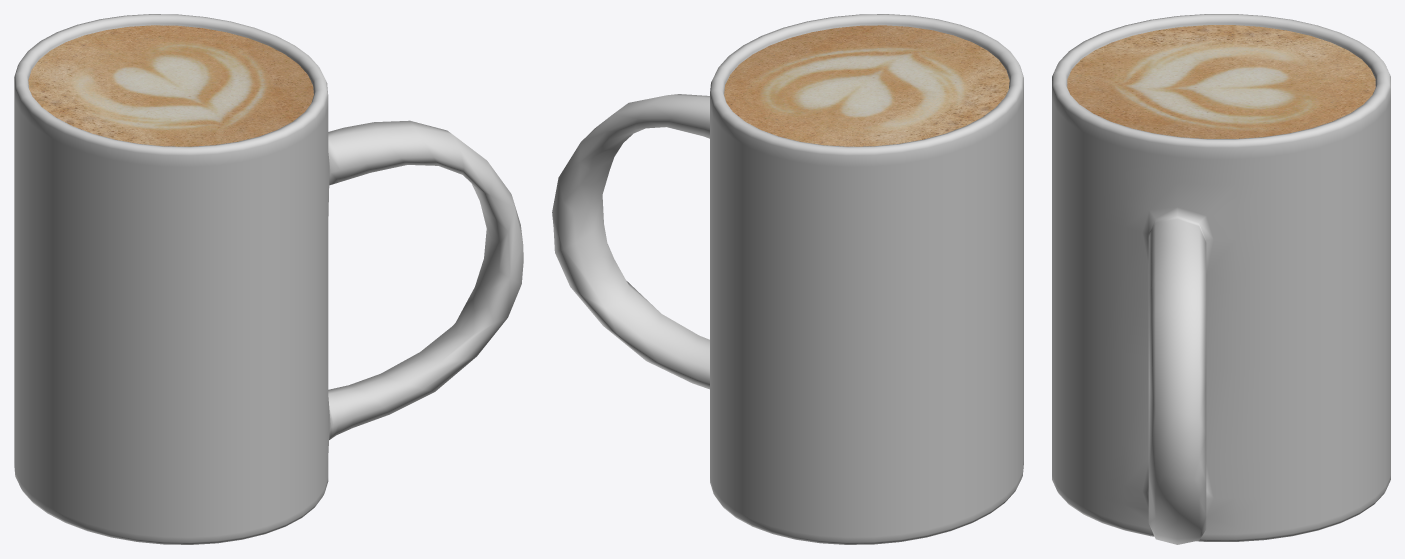
The picture shows the model from 3 angles, left to right: view 1: azimuth 30°, elevation 25°; view 2: azimuth 150°, elevation 25°; view 3: azimuth 270°, elevation 25°; orthographic projection.
Visible parts, largest first — view 1: Cylinder001, Cylinder002; view 2: Cylinder001, Cylinder002; view 3: Cylinder001, Cylinder002.
Part boxes in pixels (bbox=[...]): Cylinder001: bbox=[14, 14, 523, 544]; Cylinder002: bbox=[28, 25, 313, 146]; Cylinder001: bbox=[552, 14, 1023, 544]; Cylinder002: bbox=[724, 25, 1009, 146]; Cylinder001: bbox=[1052, 14, 1390, 544]; Cylinder002: bbox=[1067, 25, 1375, 138].
Bounding box in the file's own units: 9.36 × 7.78 × 5.89.
Materials: 4 (1 with a texture image).
